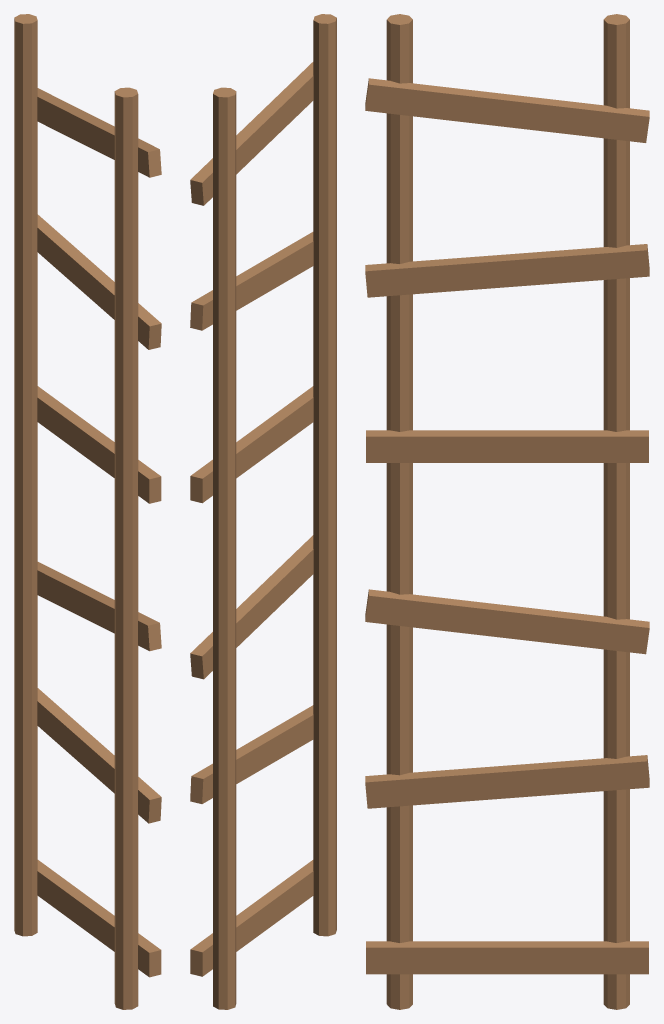
File: Wonky Ladder.fbx
3 views of the same model, side by side, from view 1: azimuth 30°, elevation 25°; view 2: azimuth 150°, elevation 25°; view 3: azimuth 270°, elevation 25° (orthographic). The views are drawn at different scales.
Visible parts, largest first — view 1: Cylinder.001; view 2: Cylinder.001; view 3: Cylinder.001.
Boxes of the visible parts, x1,y1,x2,y2 form: Cylinder.001: (14,14,161,1009); Cylinder.001: (190,14,336,1009); Cylinder.001: (365,14,649,1009).
Bounding box in the file's own units: 170 × 4986 × 1306.
